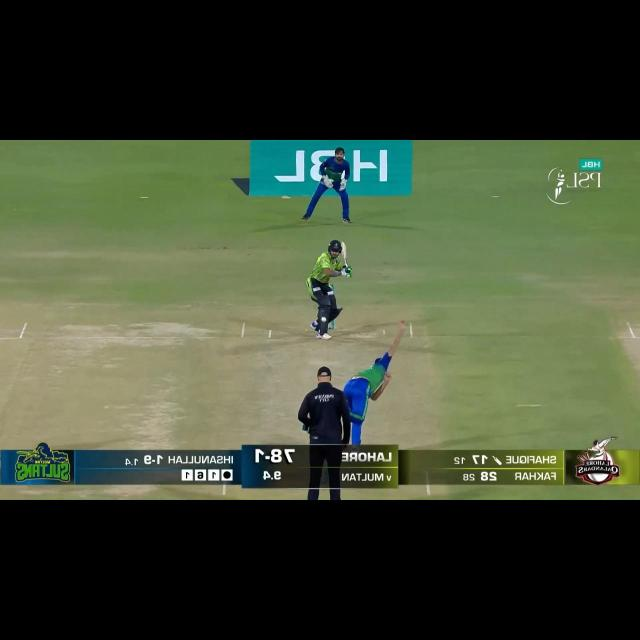bat: (340, 240, 351, 268)
toe: (340, 241, 348, 250)
